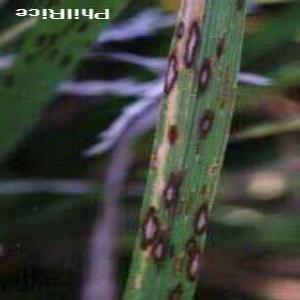Rice_Blast: (150, 168, 191, 211), (189, 46, 221, 100), (187, 102, 227, 142), (184, 199, 220, 241), (136, 204, 168, 249), (156, 47, 185, 94), (181, 14, 200, 78), (183, 234, 203, 284), (145, 234, 173, 267)
